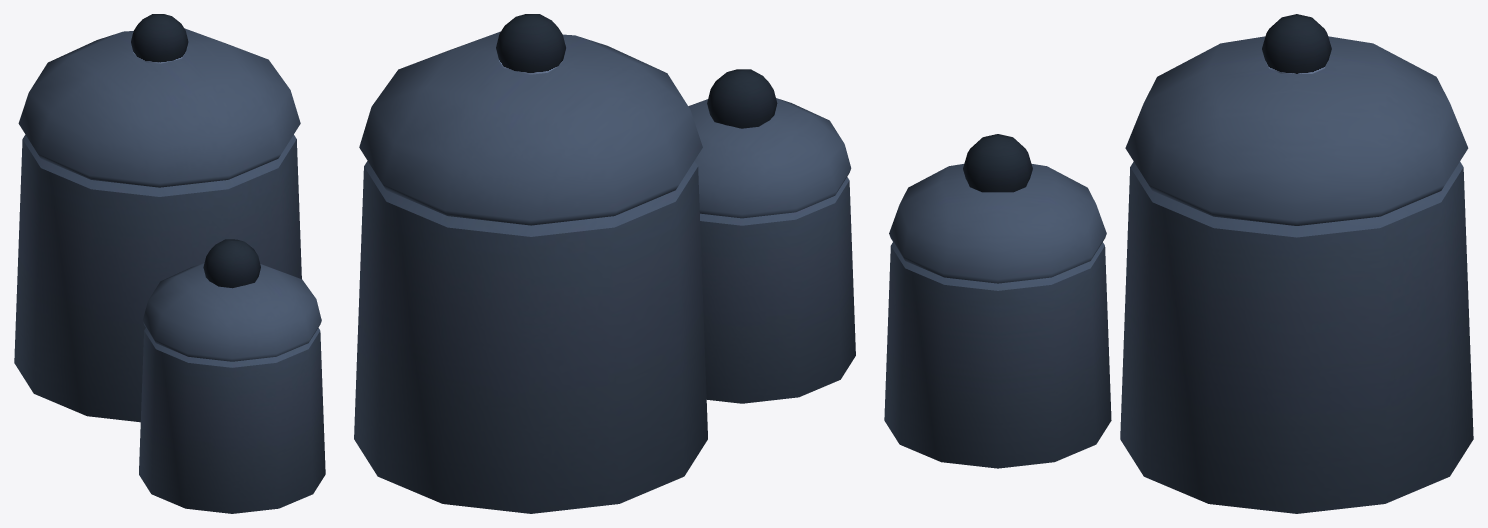
Rendered from jars.fbx.
The picture shows the model from 3 angles, left to right: view 1: azimuth 30°, elevation 25°; view 2: azimuth 150°, elevation 25°; view 3: azimuth 270°, elevation 25°; orthographic projection. The views are drawn at different scales.
Visible parts, largest first — view 1: jars; view 2: jars; view 3: jars.
Boxes of the visible parts, left/top/right/bottom form: jars: left=14, top=14, right=325, bottom=513; jars: left=354, top=14, right=855, bottom=513; jars: left=884, top=14, right=1473, bottom=513.
Size of the model in its own units: 0.5907 by 0.7824 by 0.9642.
